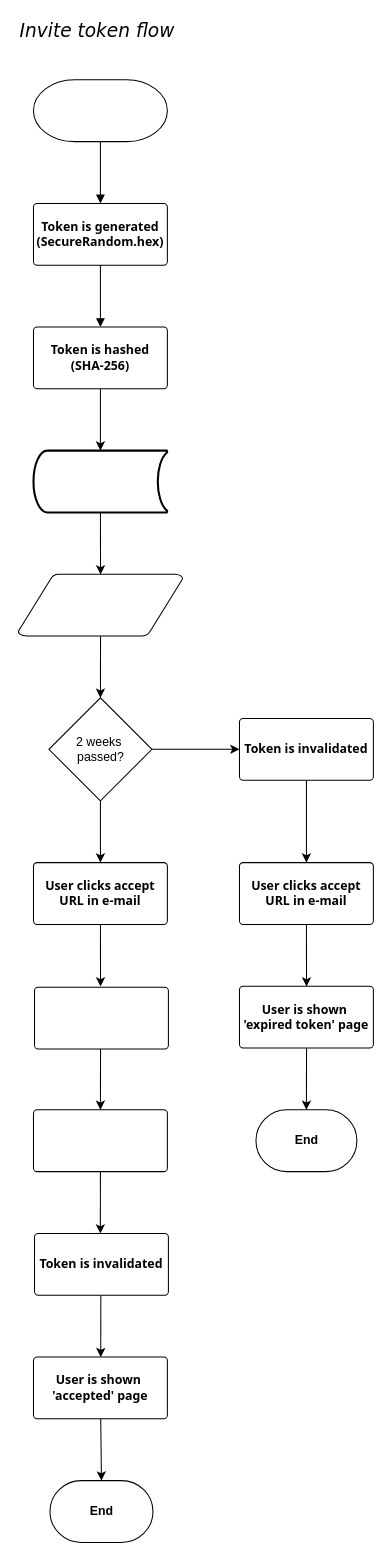
The diagram is 391 pixels wide and 1560 high, and some of its shapes have lost their labels. Each missing label, with the box of its shape:
Hashed token is stored in database: (32, 449, 168, 513)
Invite is created: (32, 79, 167, 142)
Raw token is embedded in URL and sent in e-mail: (17, 573, 183, 636)
TOS are shown: (33, 986, 168, 1049)
User accepts TOS: (32, 1109, 167, 1172)
